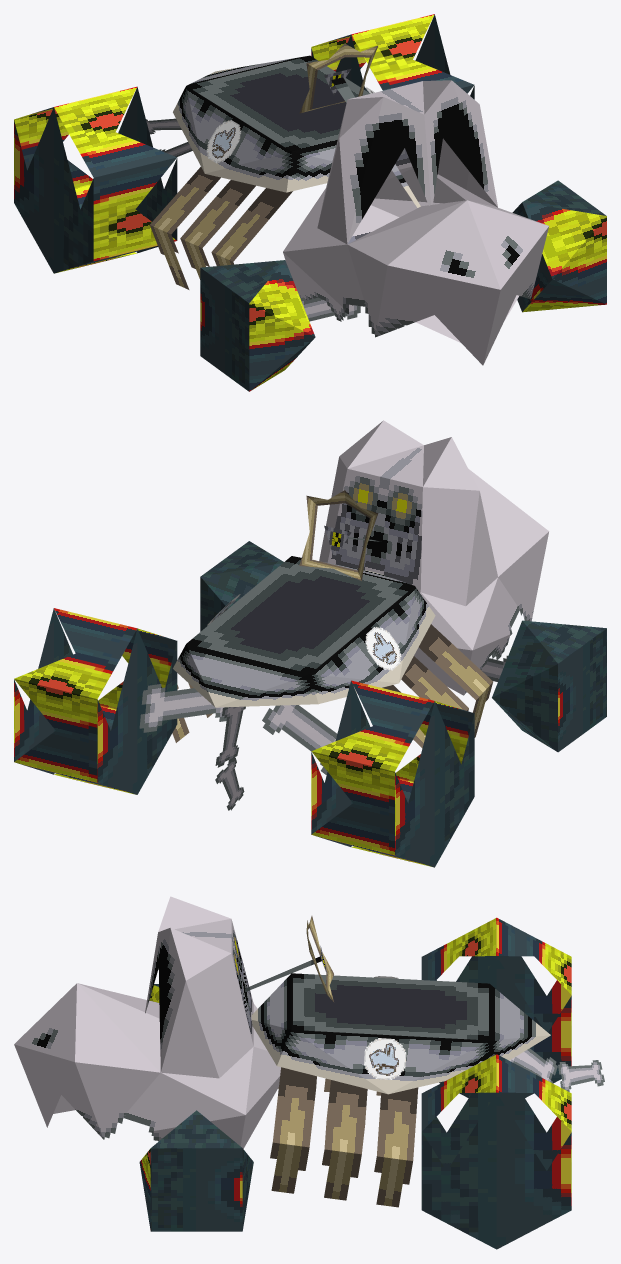
File: kart_KA_c.glb
3 renders of one model, top to bottom at view 1: azimuth 30°, elevation 25°; view 2: azimuth 150°, elevation 25°; view 3: azimuth 270°, elevation 25°, orthographic. The views are drawn at different scales.
Visible parts, largest first — view 1: kart_KA_c; view 2: kart_KA_c; view 3: kart_KA_c.
Boxes of the visible parts, box(x1,y1,x2,y2) form: kart_KA_c: box(14, 14, 606, 391); kart_KA_c: box(14, 420, 606, 867); kart_KA_c: box(14, 896, 604, 1249).
Bounding box in the file's own units: 1.12 × 0.7471 × 1.61.
3 materials, 3 textured.
